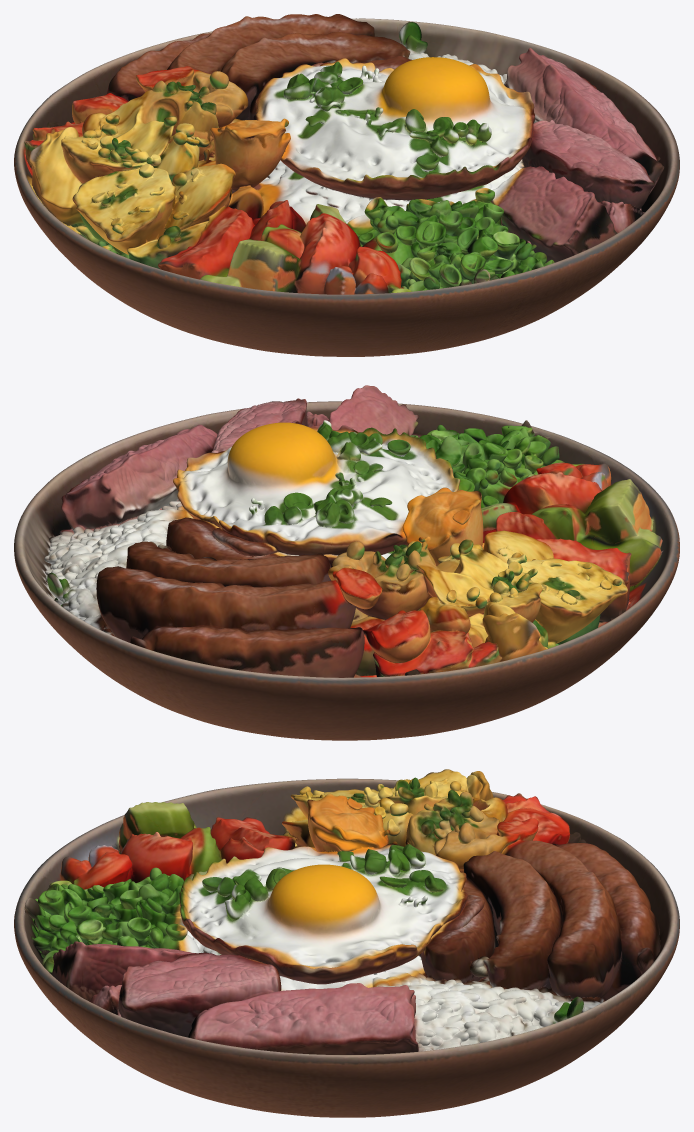
File: Salmon-Sashimi.glb
3 views of the same model, one above another, from view 1: azimuth 30°, elevation 25°; view 2: azimuth 150°, elevation 25°; view 3: azimuth 270°, elevation 25° (orthographic).
Parts seen in each view (by area): view 1: tripo_node_a840ab56-6636-4945-bbca-0b26eeb5cfa8; view 2: tripo_node_a840ab56-6636-4945-bbca-0b26eeb5cfa8; view 3: tripo_node_a840ab56-6636-4945-bbca-0b26eeb5cfa8.
Boxes of the visible parts, x1,y1,x2,y2 form: tripo_node_a840ab56-6636-4945-bbca-0b26eeb5cfa8: (14,14,679,356); tripo_node_a840ab56-6636-4945-bbca-0b26eeb5cfa8: (14,385,679,740); tripo_node_a840ab56-6636-4945-bbca-0b26eeb5cfa8: (14,769,679,1117).
Bounding box in the file's own units: 0.2936 × 0.0904 × 0.2935.
1 material, 1 textured.
